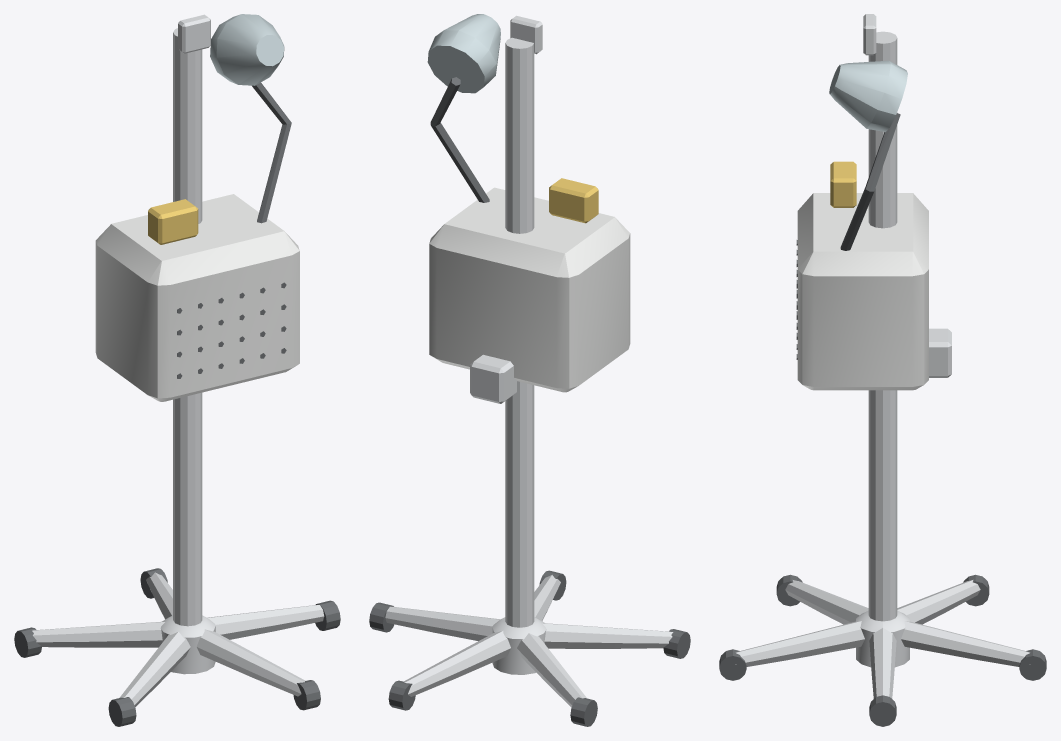
Rendered from clinic-and-veterinary-practice-nebuliser-stand-50f84bfd__16759.glb.
The picture shows the model from 3 angles, left to right: view 1: azimuth 30°, elevation 25°; view 2: azimuth 150°, elevation 25°; view 3: azimuth 270°, elevation 25°; orthographic projection.
Visible parts, largest first — view 1: nebuliser-stand; view 2: nebuliser-stand; view 3: nebuliser-stand.
Boxes of the visible parts, left/top/right/bottom form: nebuliser-stand: left=14, top=14, right=340, bottom=726; nebuliser-stand: left=369, top=14, right=690, bottom=726; nebuliser-stand: left=719, top=14, right=1046, bottom=726.
Size of the model in its own units: 0.4582 by 1.07 by 0.4986.
